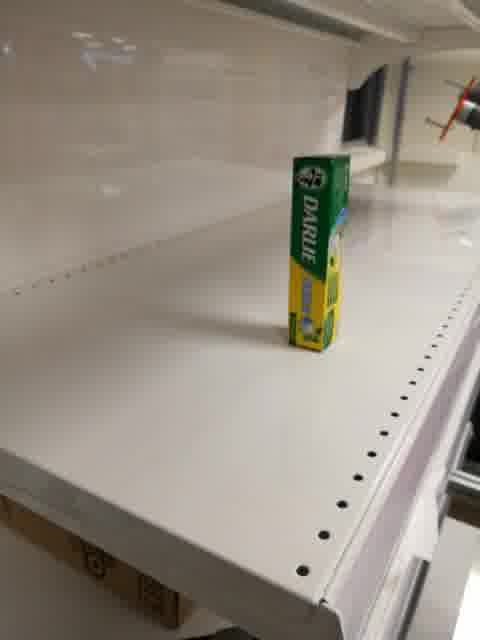toothpaste: (287, 154, 351, 354)
